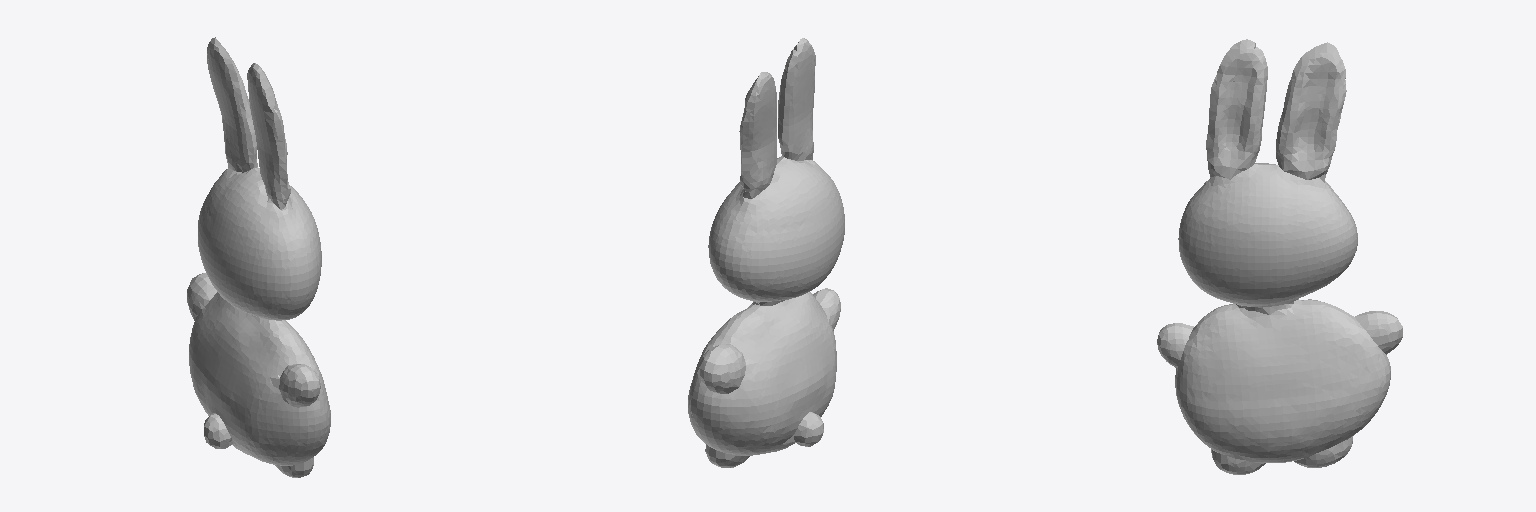
File: rabbit_aug_10.obj
The picture shows the model from 3 angles: view 1: azimuth 30°, elevation 25°; view 2: azimuth 150°, elevation 25°; view 3: azimuth 270°, elevation 25°; orthographic projection.
Size of the model in its own units: 27.37 by 105 by 55.95.